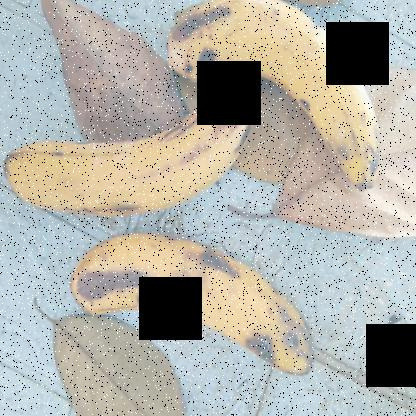overripe: (53, 227, 325, 386)
ripe: (158, 0, 383, 184), (0, 89, 262, 221)
